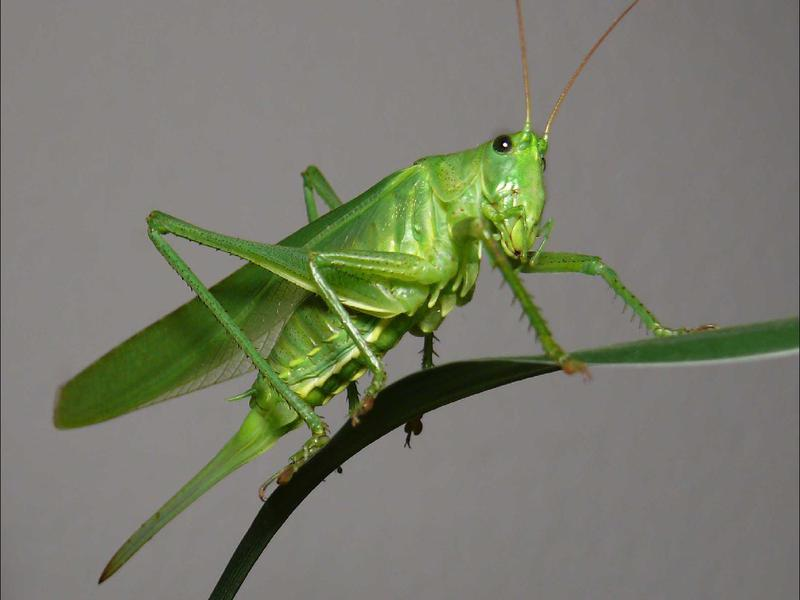Grasshopper: (169, 114, 621, 457)
